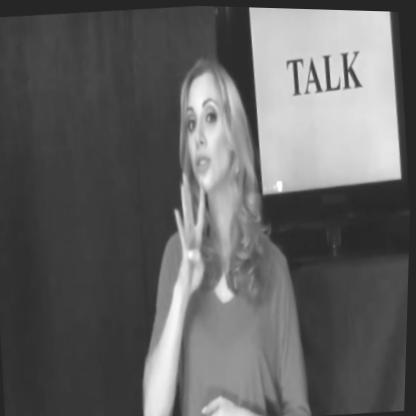Talk: (155, 44, 277, 315)
